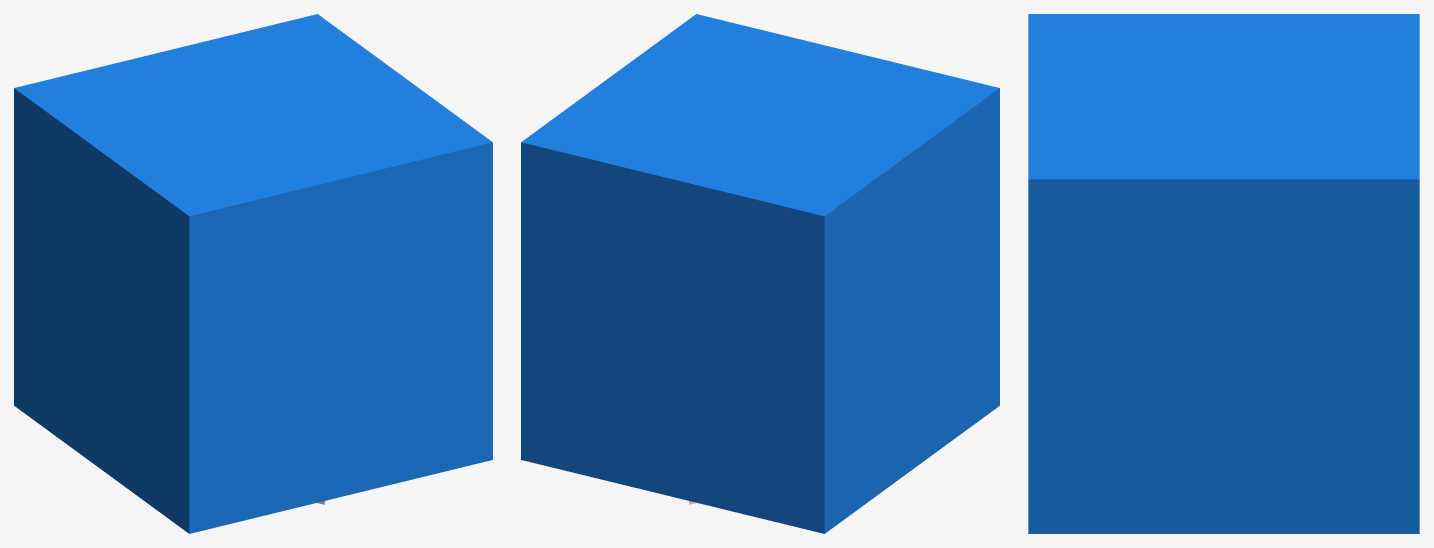
File: custom-grav.glb
The picture shows the model from 3 angles, left to right: view 1: azimuth 30°, elevation 25°; view 2: azimuth 150°, elevation 25°; view 3: azimuth 270°, elevation 25°; orthographic projection. The views are drawn at different scales.
Parts seen in each view (by area): view 1: cube; view 2: cube; view 3: cube.
Part boxes in pixels (<box>): cube: <box>14,14,492,533</box>; cube: <box>521,14,999,533</box>; cube: <box>1028,14,1419,533</box>.
Bounding box in the file's own units: 1 × 1.06 × 1.
Materials: 2 (2 with a texture image).
